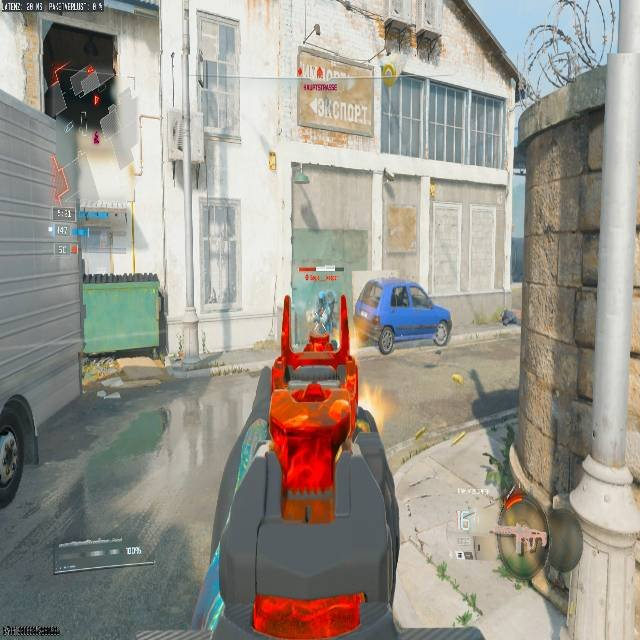player: (314, 289, 335, 335)
